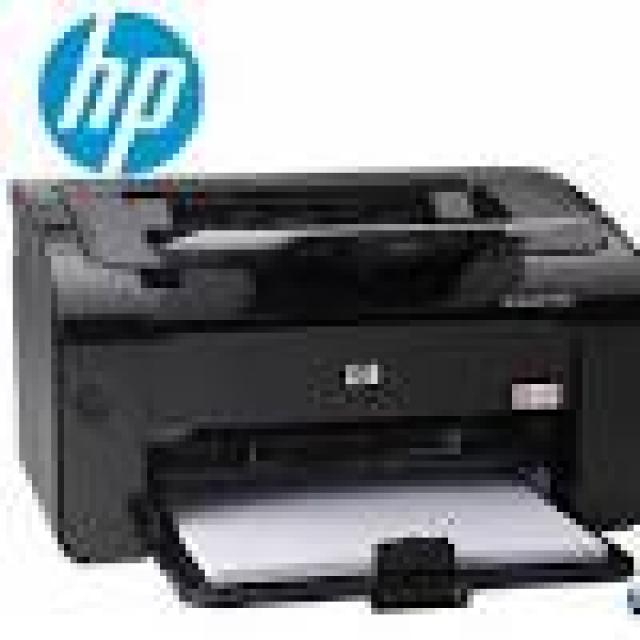printer: (5, 165, 640, 613)
